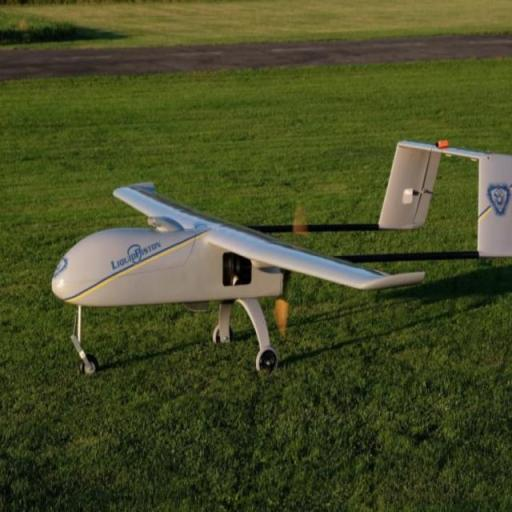uav: (18, 133, 512, 375)
